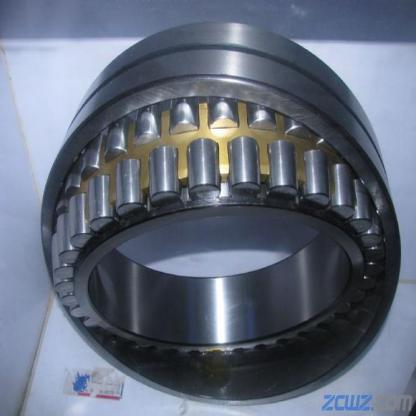FOD: (35, 19, 402, 412)
